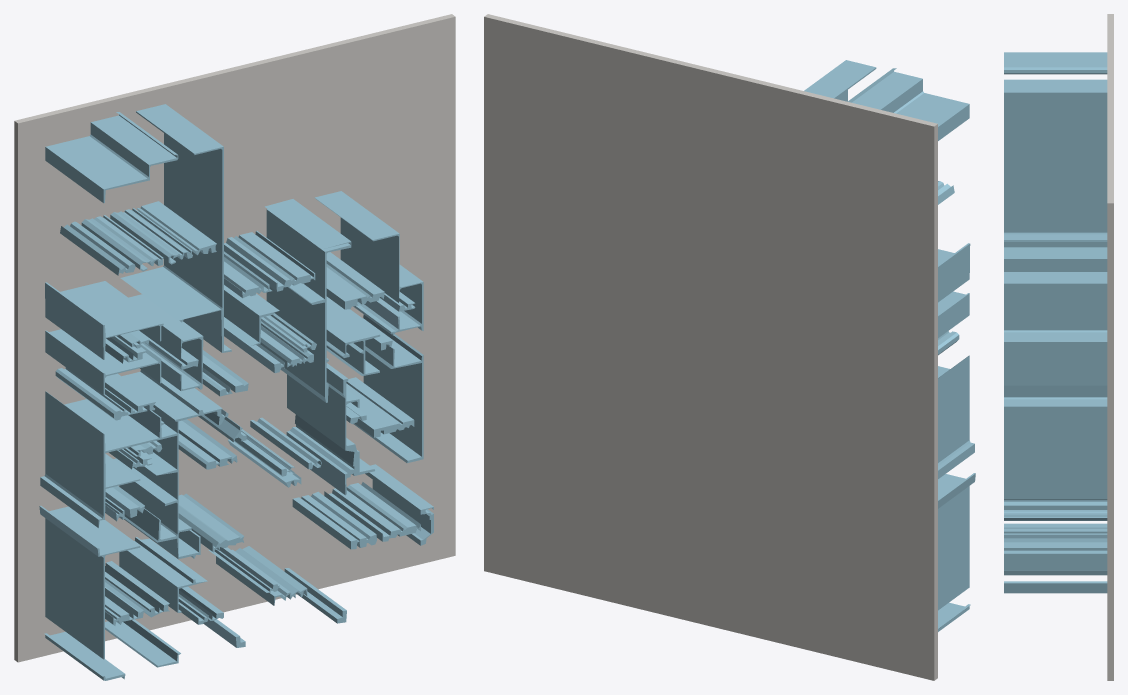
3 renders of one model, left to right at view 1: azimuth 30°, elevation 25°; view 2: azimuth 150°, elevation 25°; view 3: azimuth 270°, elevation 25°, orthographic. The views are drawn at different scales.
Visible parts, largest first — view 1: world; view 2: world; view 3: world.
Boxes of the visible parts, <box> form: world: <box>14,14,455,680</box>; world: <box>484,14,975,680</box>; world: <box>1004,14,1113,680</box>.
Size of the model in its own units: 10.23 by 12.04 by 2.51.
